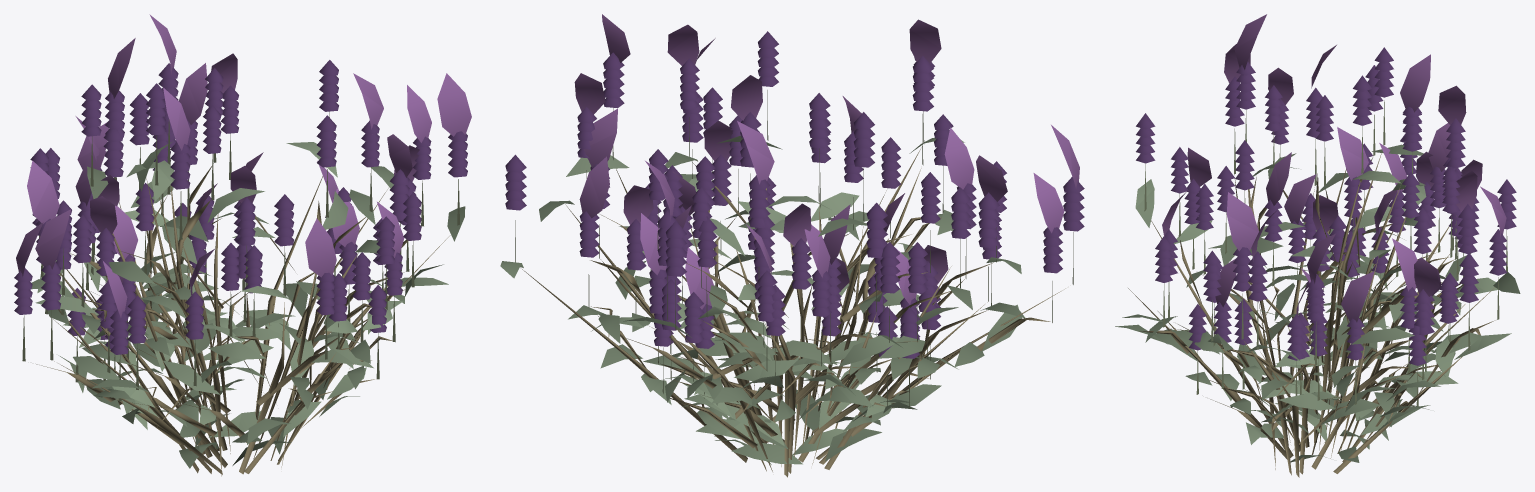
Rendered from Lavande_Jeune_LOD2.fbx.
3 views of the same model, side by side, from view 1: azimuth 30°, elevation 25°; view 2: azimuth 150°, elevation 25°; view 3: azimuth 270°, elevation 25° (orthographic). The views are drawn at different scales.
Parts seen in each view (by area): view 1: Lavande_Jeune_LOD2; view 2: Lavande_Jeune_LOD2; view 3: Lavande_Jeune_LOD2.
Boxes of the visible parts, x1=… form: Lavande_Jeune_LOD2: x1=14, y1=14, x2=471, y2=476; Lavande_Jeune_LOD2: x1=500, y1=14, x2=1084, y2=477; Lavande_Jeune_LOD2: x1=1115, y1=14, x2=1520, y2=477.
Size of the model in its own units: 45.61 by 40.45 by 37.11.
